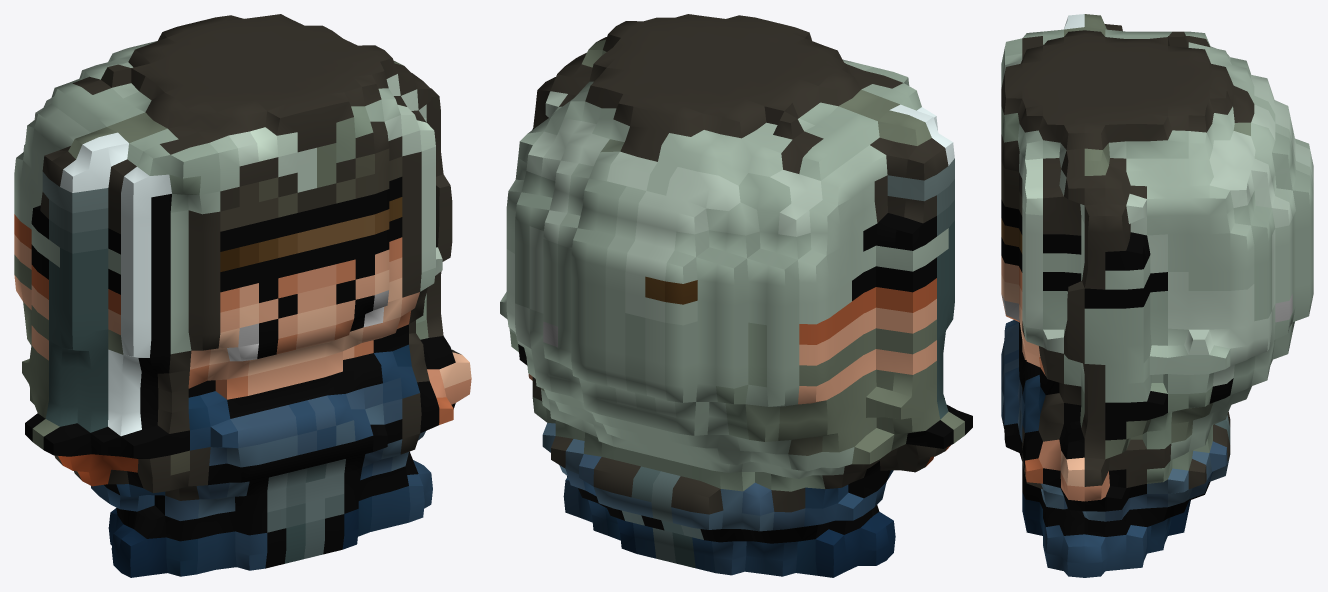
The model's file is Icon_007_02.obj.
3 renders of one model, left to right at view 1: azimuth 30°, elevation 25°; view 2: azimuth 150°, elevation 25°; view 3: azimuth 270°, elevation 25°, orthographic. The views are drawn at different scales.
Bounding box in the file's own units: 2.18 × 2.3 × 1.5.
Materials: 1 (1 with a texture image).
